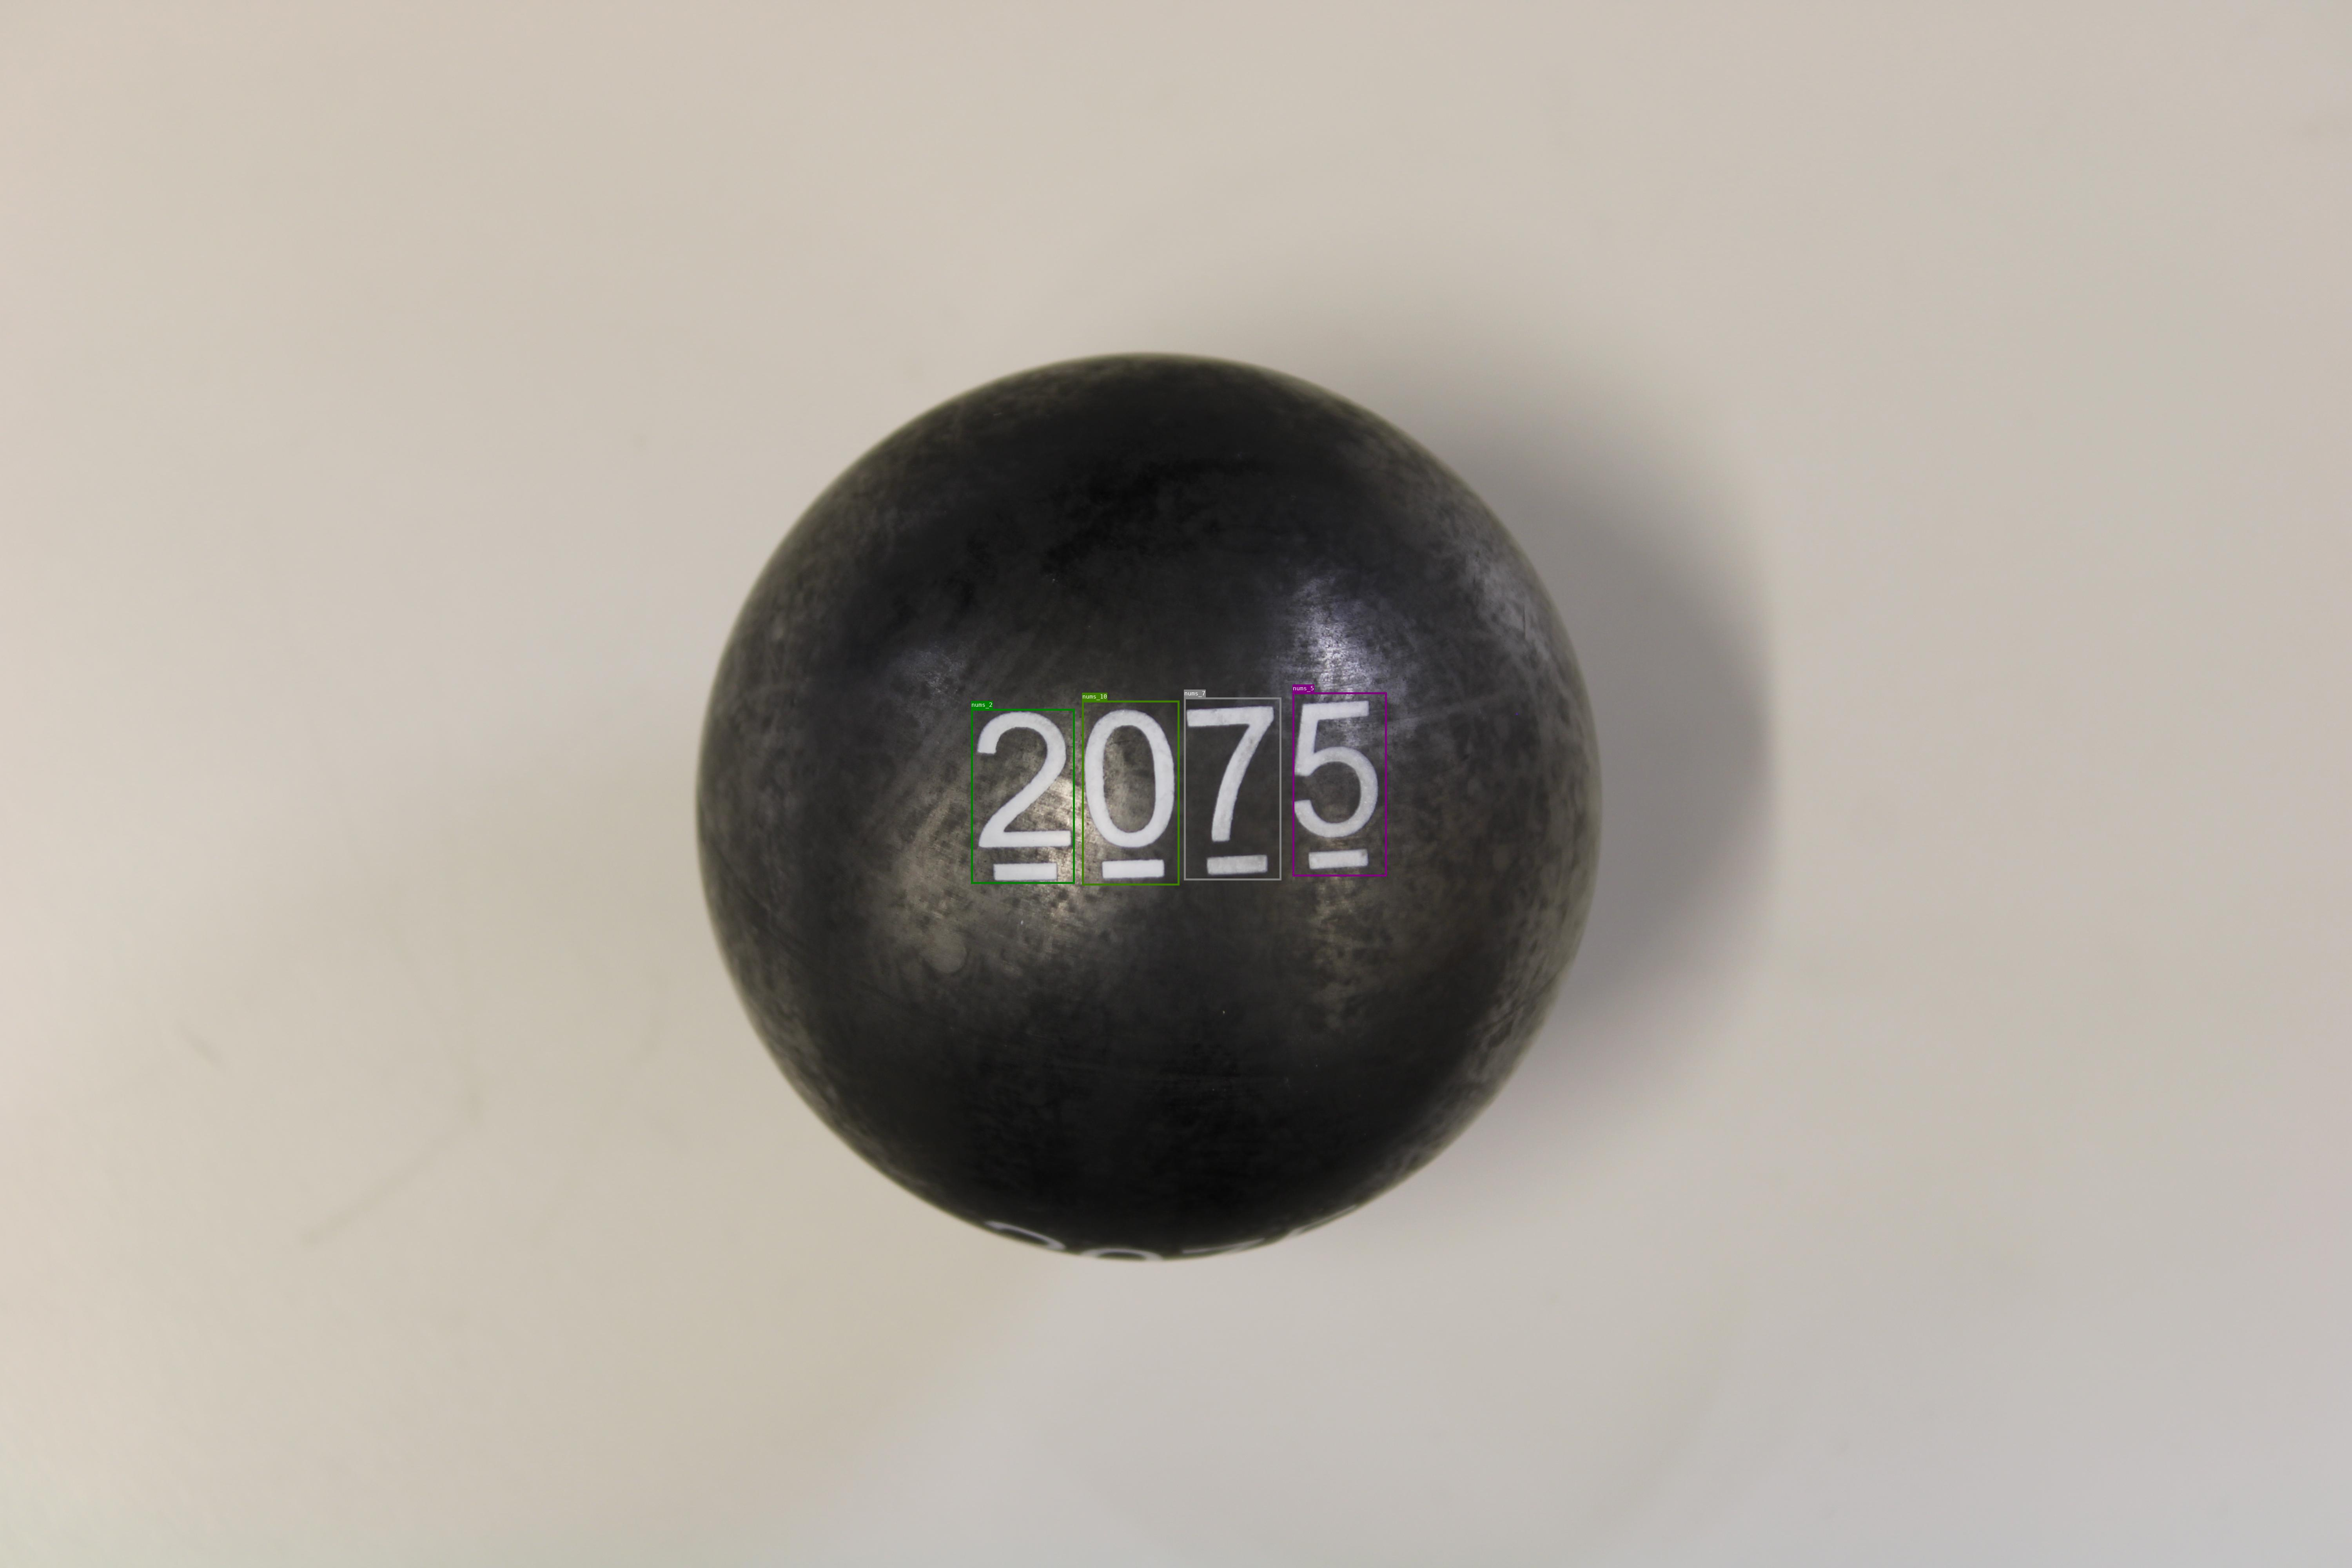nums_10: (1081, 700, 1179, 886)
nums_2: (971, 709, 1074, 884)
nums_5: (1293, 693, 1386, 877)
nums_7: (1183, 697, 1281, 880)
